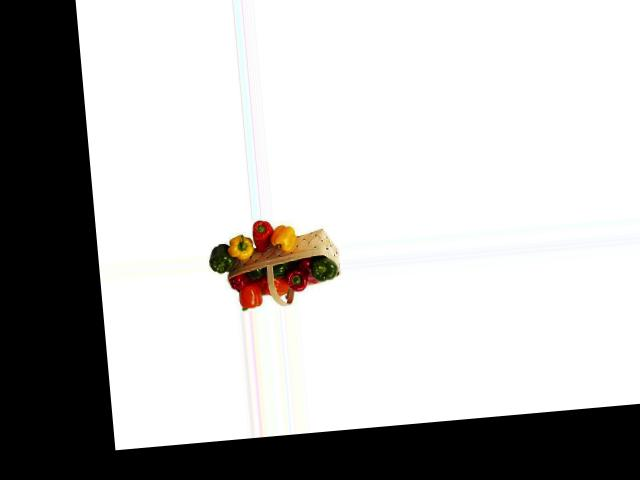bell_pepper: (307, 256, 338, 283)
